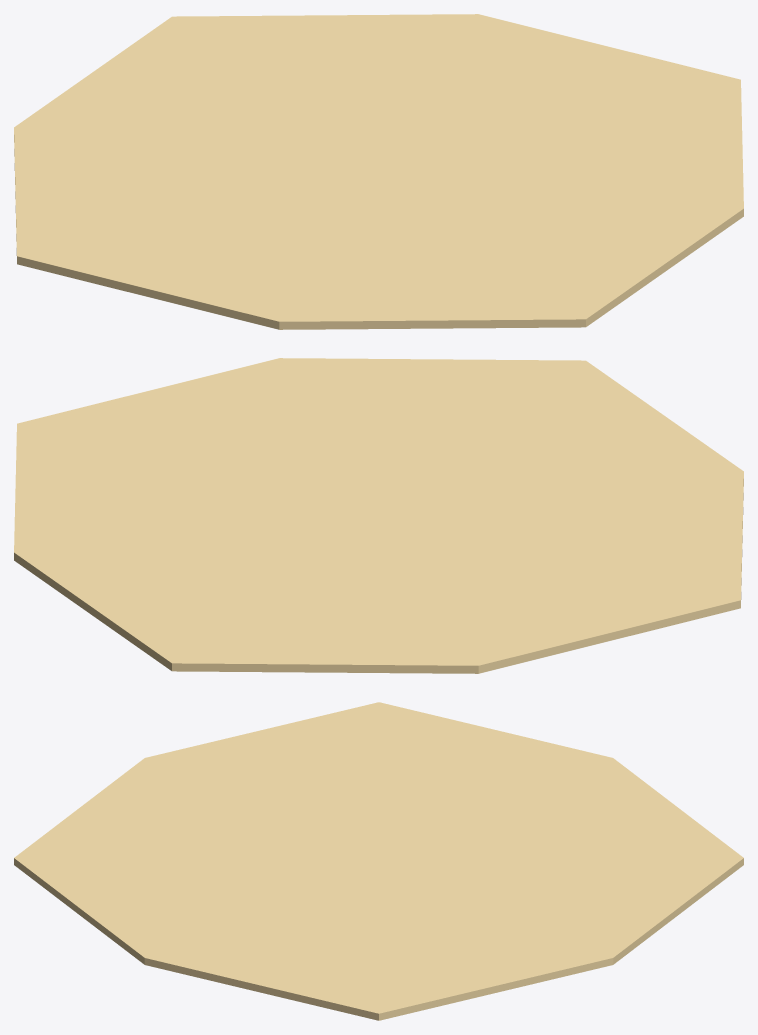
3 views of the same model, one above another, from view 1: azimuth 30°, elevation 25°; view 2: azimuth 150°, elevation 25°; view 3: azimuth 270°, elevation 25° (orthographic). The views are drawn at different scales.
Parts seen in each view (by area): view 1: Plane T; view 2: Plane T; view 3: Plane T.
Boxes of the visible parts, <box> form: Plane T: <box>14,14,743,329</box>; Plane T: <box>14,358,743,673</box>; Plane T: <box>14,702,743,1020</box>.
Size of the model in its own units: 59.91 by 0.6359 by 59.31.
